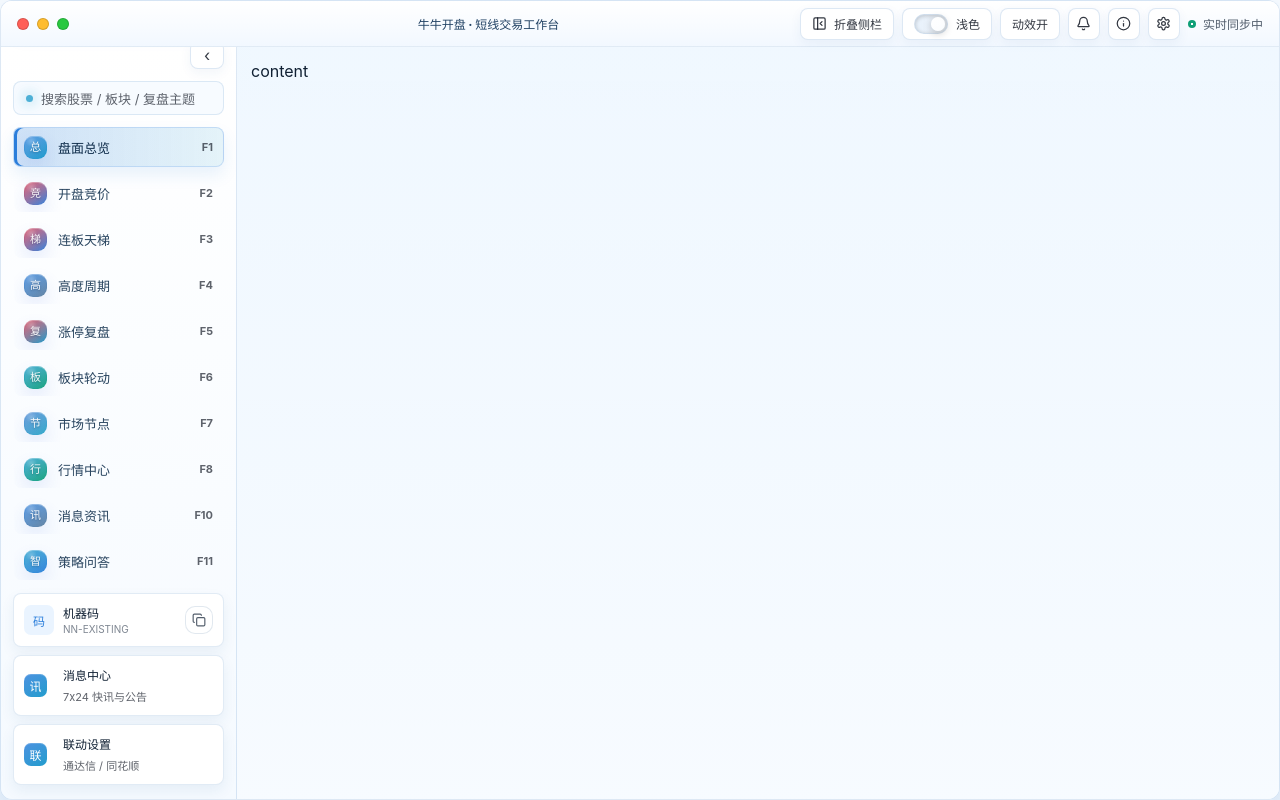
Test: AppShell › opens settings and message center from sidebar quick actions
(page scrolled)
Click the button with aria-label "打开联动设置". click: [118, 754]
box: x1=13 y1=724 x2=224 y2=785
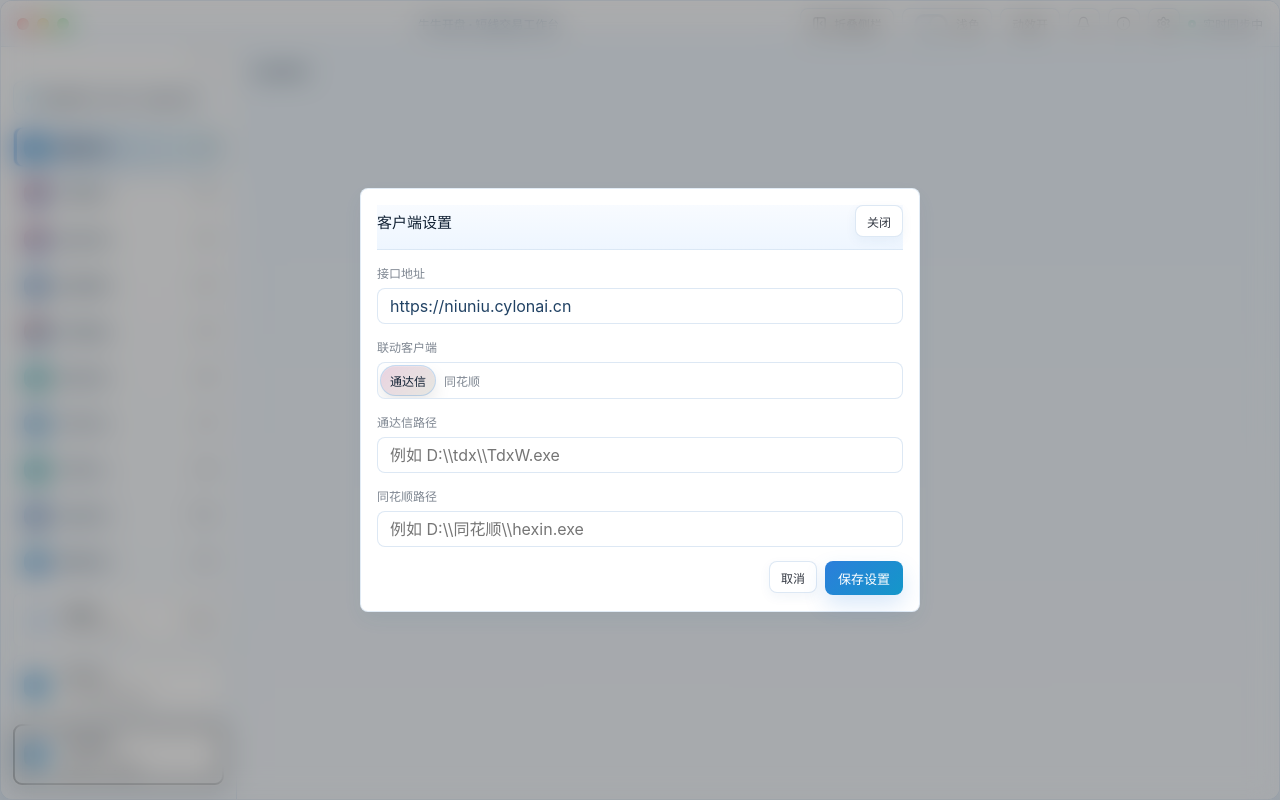
Expected: the dialog "客户端设置" is shown, x1=360 y1=188 x2=920 y2=612
Click the button with aria-label "关闭设置". click: [879, 221]
box: x1=855 y1=205 x2=903 y2=237
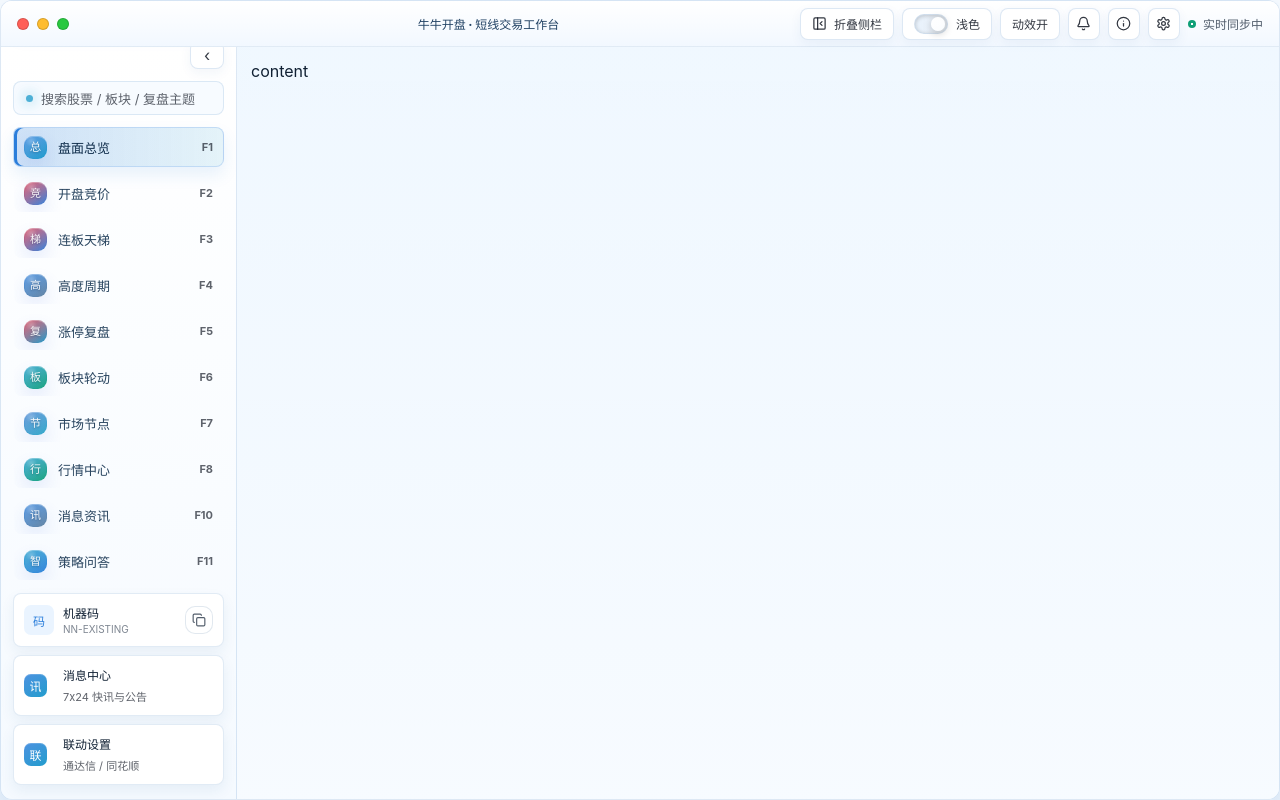
Click the button with aria-label "打开消息中心". click: [118, 686]
box: x1=13 y1=655 x2=224 y2=716
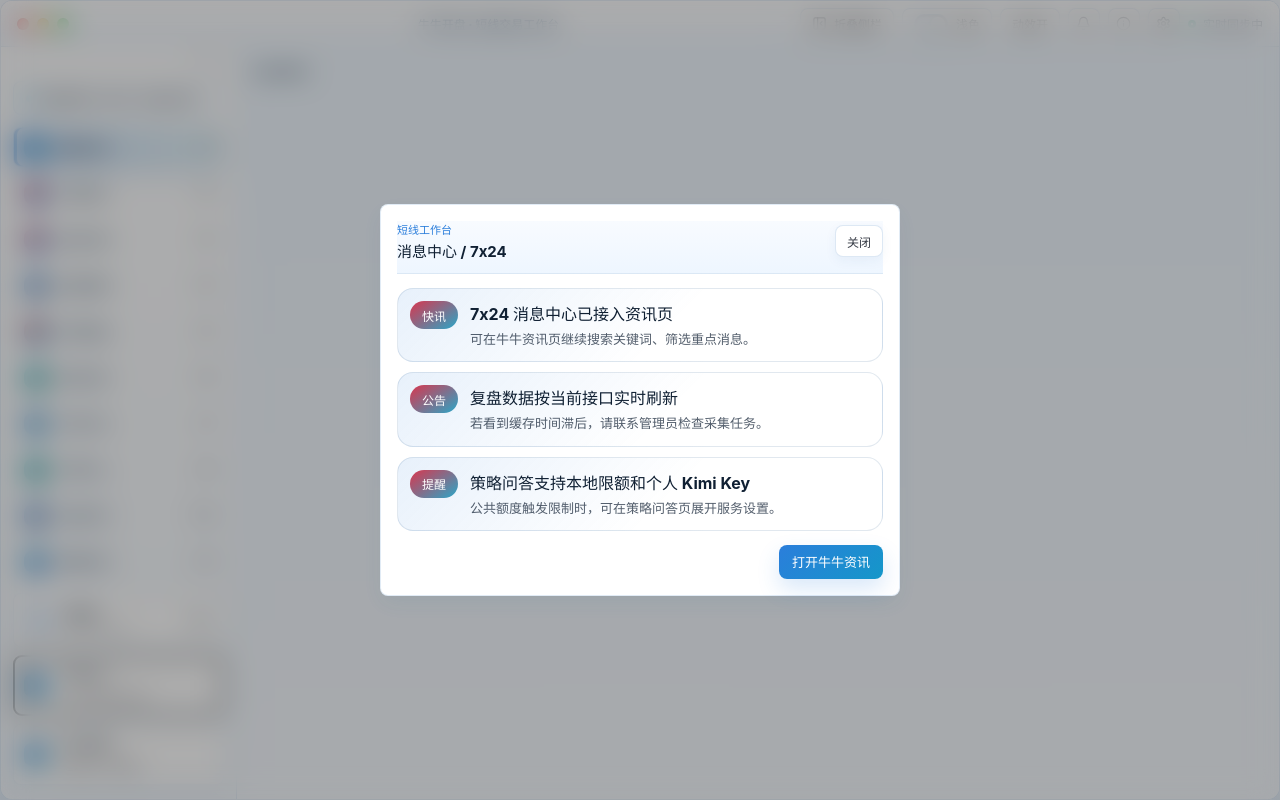
Expected: the dialog "消息中心 / 7x24" is shown, x1=380 y1=204 x2=900 y2=596
